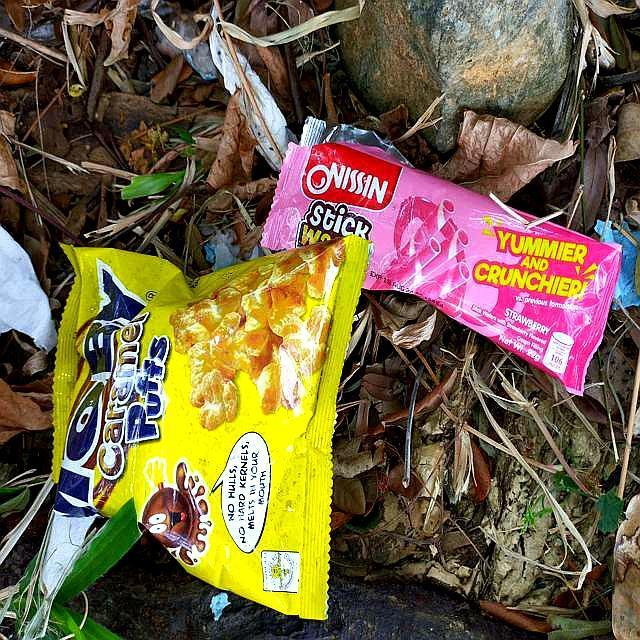Non-biodegradable: (51, 239, 365, 617), (257, 109, 627, 413)
